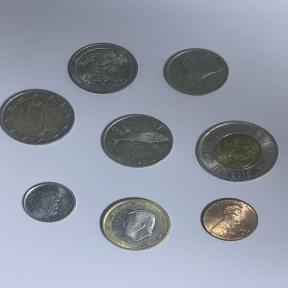coin: (190, 113, 284, 189), (94, 108, 178, 175), (94, 192, 176, 253), (0, 86, 78, 150), (66, 42, 142, 96), (195, 193, 263, 243), (18, 178, 78, 226)
